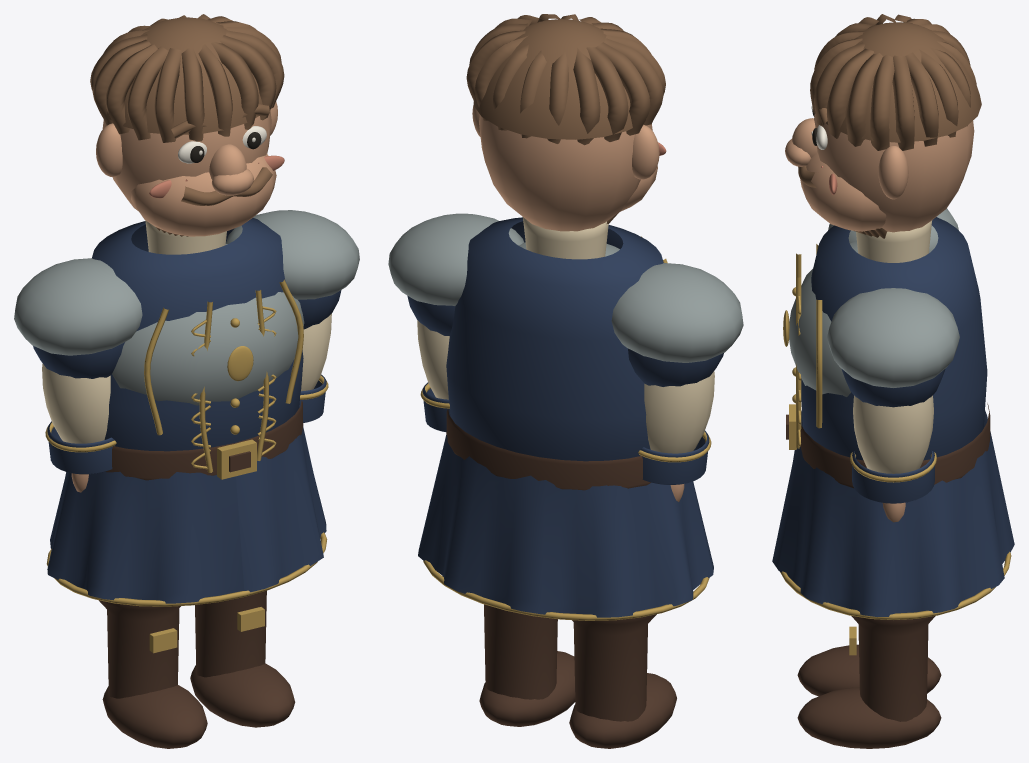
The model's file is guard.glb.
3 renders of one model, left to right at view 1: azimuth 30°, elevation 25°; view 2: azimuth 150°, elevation 25°; view 3: azimuth 270°, elevation 25°, orthographic. The views are drawn at different scales.
Visible parts, largest first — view 1: Velvet guard (×3), Brushed steel (×3), Leather (×3), Hair guard, Skin guard, Antique brass (×3), Ivory woven cloth (×3), Eye white; view 2: Velvet guard (×3), Leather (×3), Hair guard, Brushed steel (×2), Skin guard, Ivory woven cloth (×3), Antique brass; view 3: Velvet guard (×2), Hair guard, Leather (×3), Brushed steel (×3), Skin guard, Ivory woven cloth (×2), Antique brass (×2).
Boxes of the visible parts, bbox=[...] form: Velvet guard (×3): bbox=[33, 218, 341, 603]; Brushed steel (×3): bbox=[14, 210, 359, 405]; Leather (×3): bbox=[99, 400, 303, 748]; Hair guard: bbox=[90, 14, 284, 236]; Skin guard: bbox=[96, 101, 277, 236]; Antique brass (×3): bbox=[46, 279, 327, 653]; Ivory woven cloth (×3): bbox=[42, 220, 331, 443]; Eye white: bbox=[178, 126, 266, 163]; Velvet guard (×3): bbox=[407, 217, 723, 617]; Leather (×3): bbox=[446, 409, 676, 748]; Hair guard: bbox=[466, 14, 665, 223]; Brushed steel (×2): bbox=[388, 213, 743, 362]; Skin guard: bbox=[472, 105, 659, 231]; Ivory woven cloth (×3): bbox=[417, 217, 714, 453]; Antique brass: bbox=[423, 236, 709, 620]; Velvet guard (×2): bbox=[772, 217, 1014, 617]; Hair guard: bbox=[798, 14, 981, 238]; Leather (×3): bbox=[786, 403, 990, 748]; Brushed steel (×3): bbox=[789, 208, 959, 396]; Skin guard: bbox=[785, 113, 974, 232]; Ivory woven cloth (×2): bbox=[853, 220, 933, 473]; Antique brass (×2): bbox=[780, 244, 1011, 619].
Bounding box in the file's own units: 1.03 × 2.07 × 0.657.
